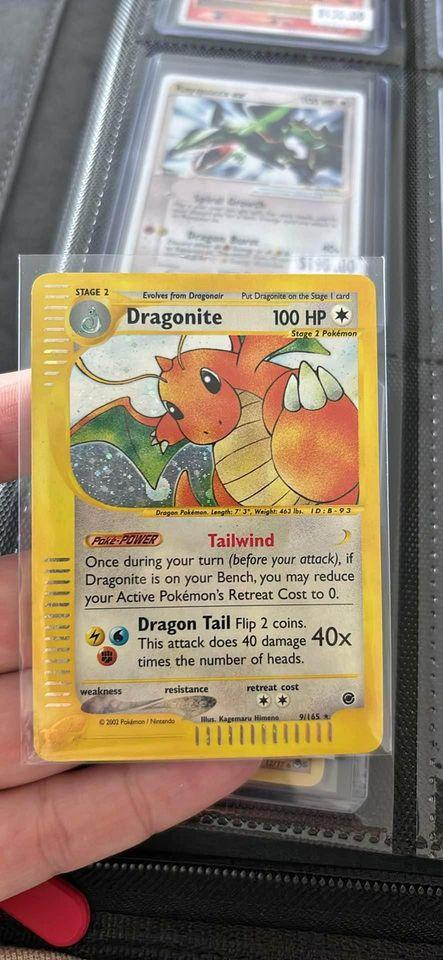card: (30, 270, 384, 762), (120, 74, 367, 276)
